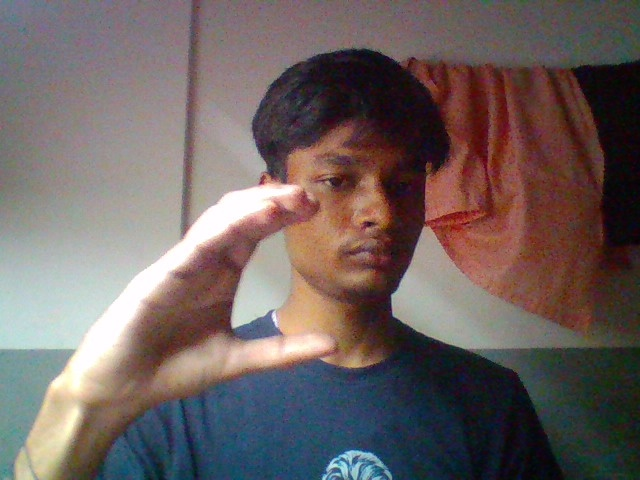C: (36, 124, 378, 443)
